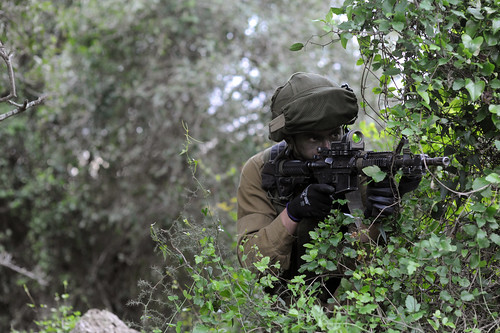soldier: (230, 84, 380, 297)
vegetation: (153, 1, 500, 324)
weapon: (264, 145, 442, 200)
